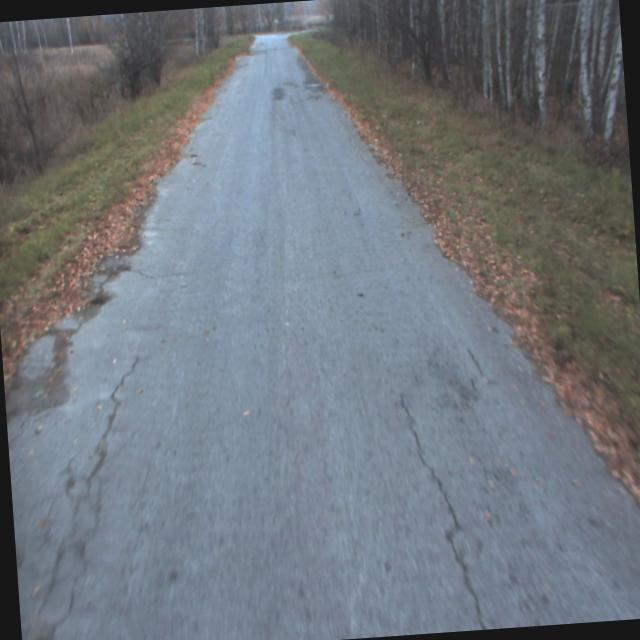road: (5, 30, 640, 640)
